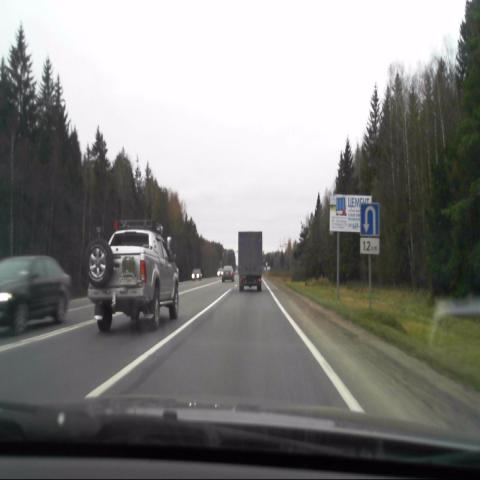6_3_1: (360, 203, 380, 235)
8_1_1: (360, 238, 380, 255)
